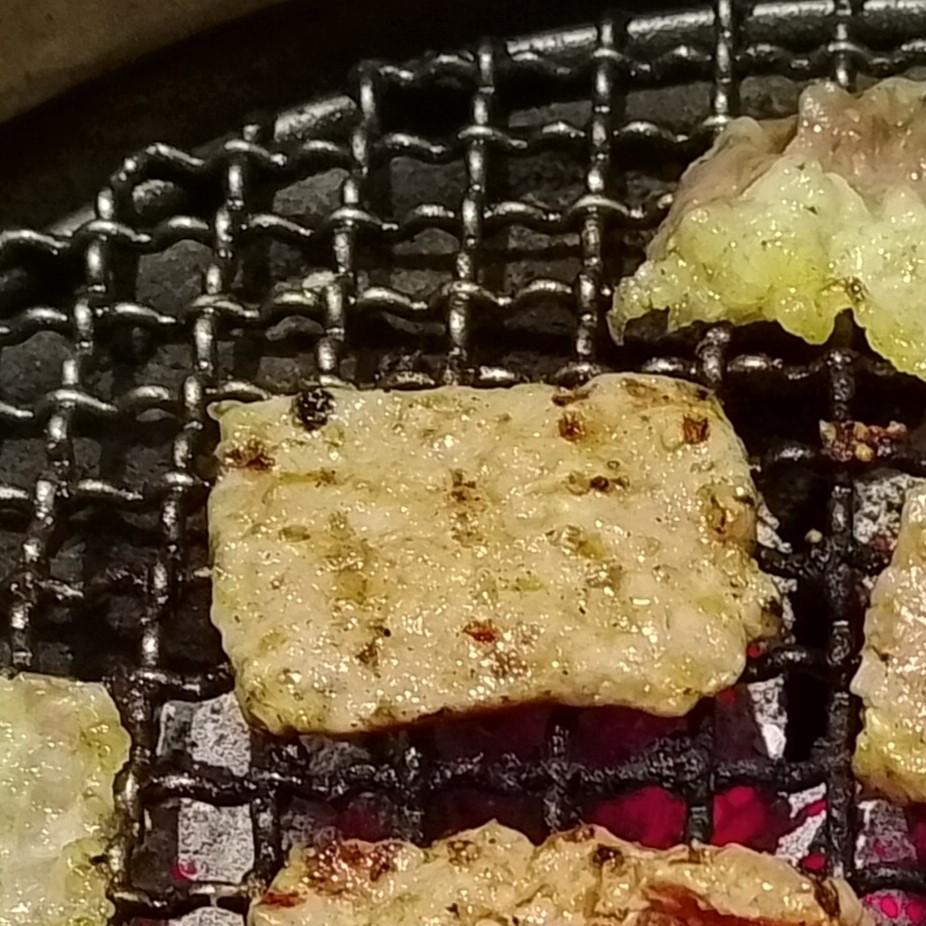Well-Cooked: (206, 373, 783, 741), (611, 72, 925, 388), (243, 825, 868, 925), (0, 676, 134, 925), (855, 486, 925, 811)
